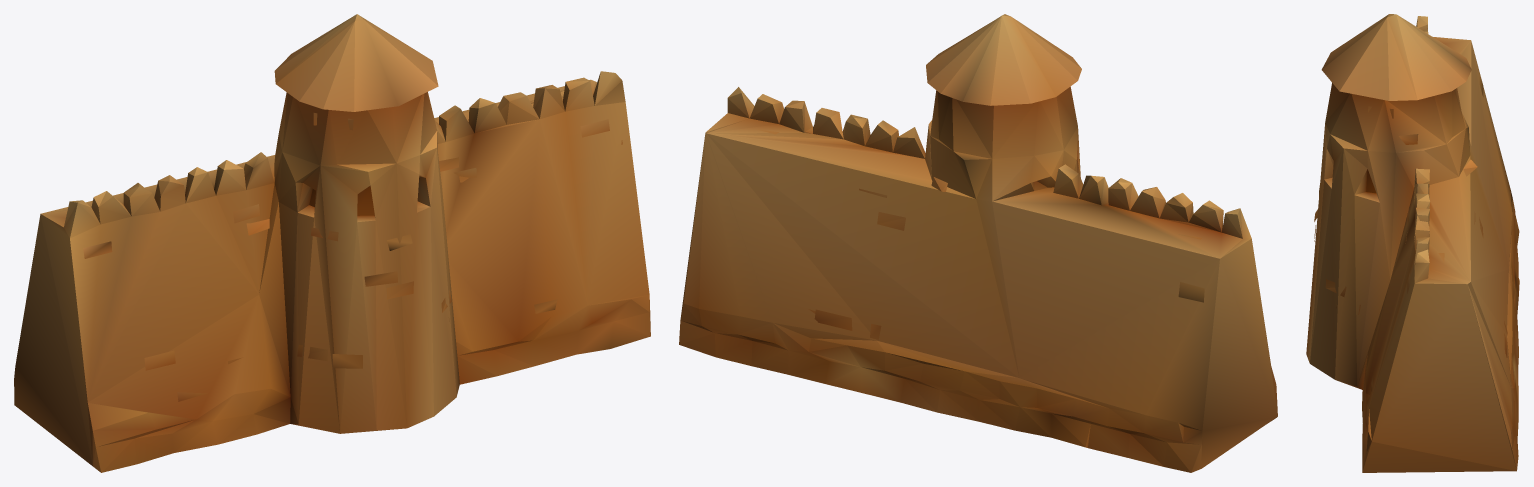
Rendered from khwall_lo.glb.
3 views of the same model, side by side, from view 1: azimuth 30°, elevation 25°; view 2: azimuth 150°, elevation 25°; view 3: azimuth 270°, elevation 25° (orthographic). The views are drawn at different scales.
Parts seen in each view (by area): view 1: geometry_0; view 2: geometry_0; view 3: geometry_0.
Part boxes in pixels (x1=…): geometry_0: x1=14, y1=14, x2=650, y2=472; geometry_0: x1=679, y1=14, x2=1277, y2=472; geometry_0: x1=1306, y1=14, x2=1519, y2=472.
Size of the model in its own units: 0.9492 by 0.6137 by 0.3481.
